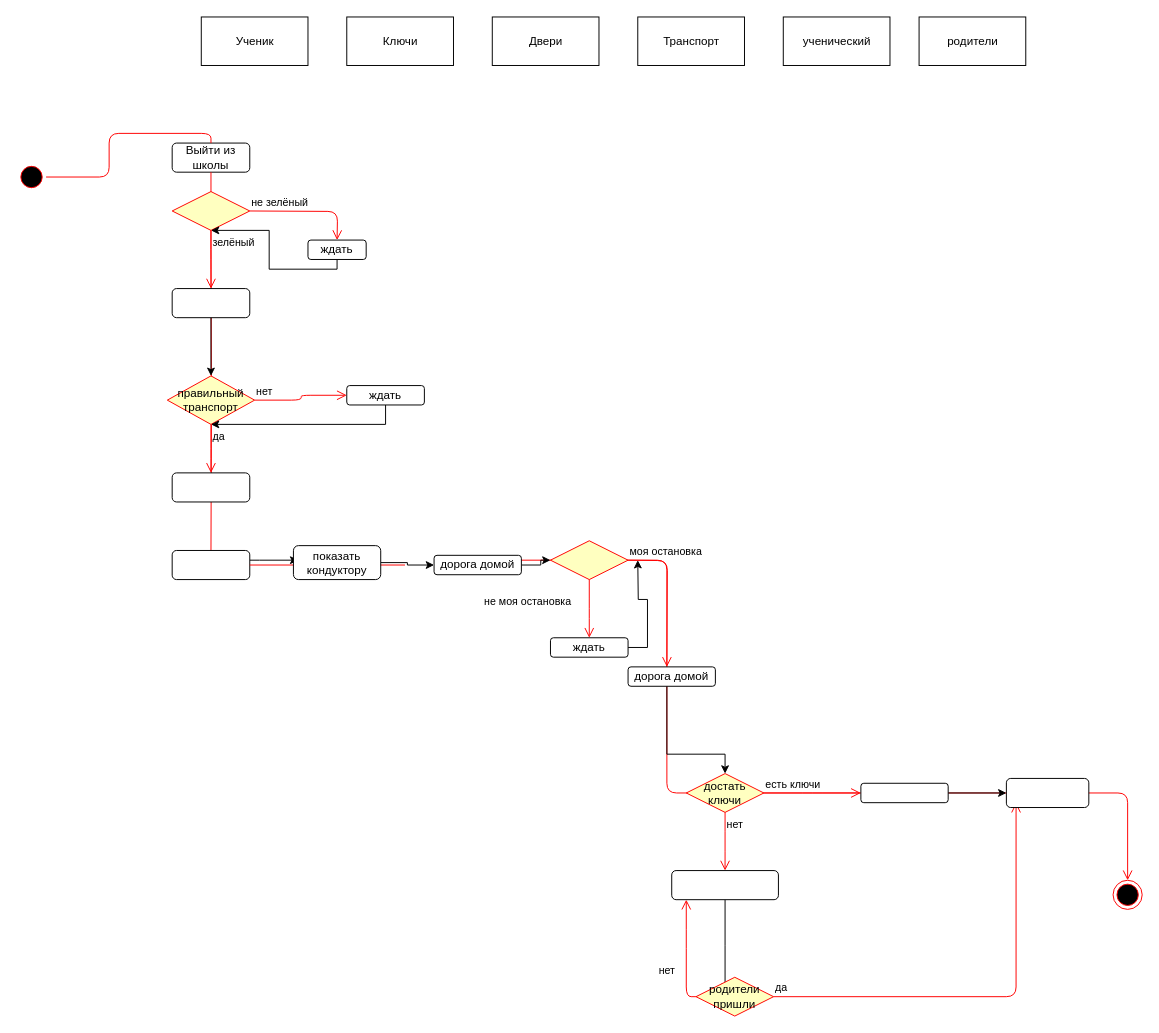
Image size: 1159x1033. Some labels were removed from this diagram. Here are the shapes that lost their labels. From the top down, the centre of each, then its label:
At (210,210): "перейти доргу".
At (210,303): "ждать транспорт".
At (210,487): "сесть в транспорт".
At (210,565): "достать ученический".
At (589,560): "выйти из транспорта".
At (904,792): "открыть двери".
At (1047,792): "зайти в дом".
At (724,885): "ждать родителей".
